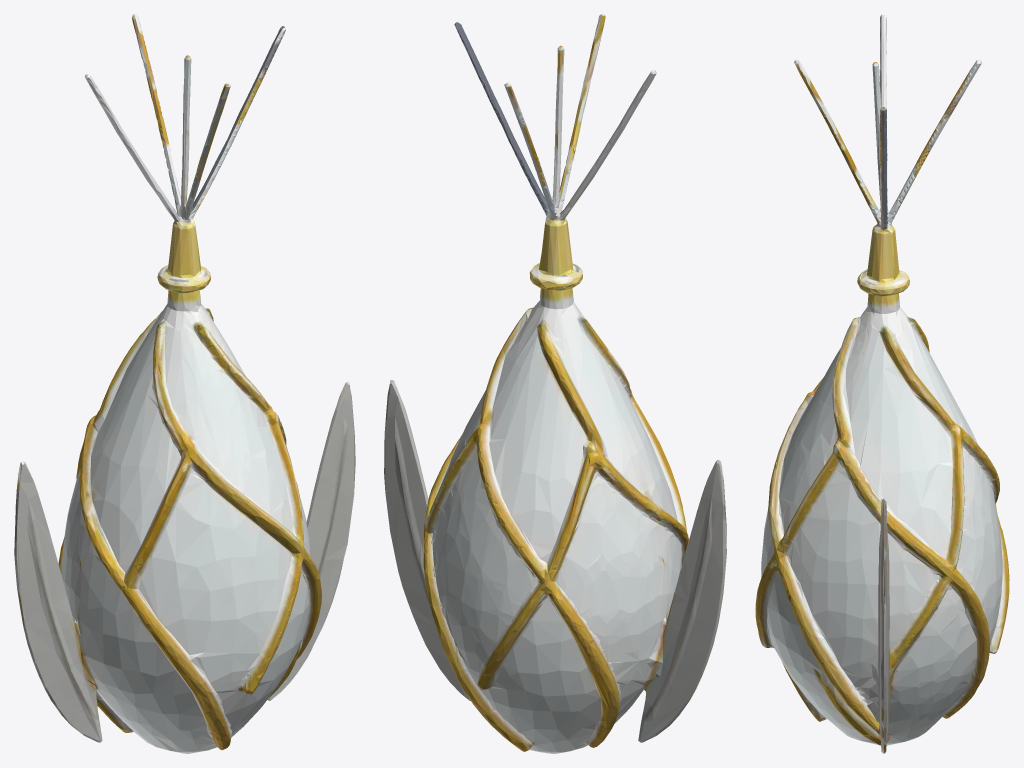
The model's file is creature-016.lod.glb.
The picture shows the model from 3 angles, left to right: view 1: azimuth 30°, elevation 25°; view 2: azimuth 150°, elevation 25°; view 3: azimuth 270°, elevation 25°; orthographic projection. The views are drawn at different scales.
Visible parts, largest first — view 1: tmplf7rm92g.ply; view 2: tmplf7rm92g.ply; view 3: tmplf7rm92g.ply.
Part boxes in pixels (x1=…): tmplf7rm92g.ply: x1=14, y1=14, x2=355, y2=753; tmplf7rm92g.ply: x1=384, y1=14, x2=726, y2=753; tmplf7rm92g.ply: x1=755, y1=14, x2=1009, y2=753.
Bounding box in the file's own units: 1.01 × 1.99 × 0.67.
1 material, 1 textured.
